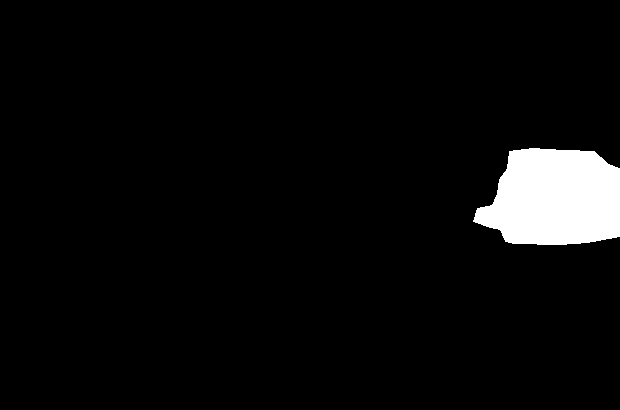type4: (473, 145, 620, 249)
